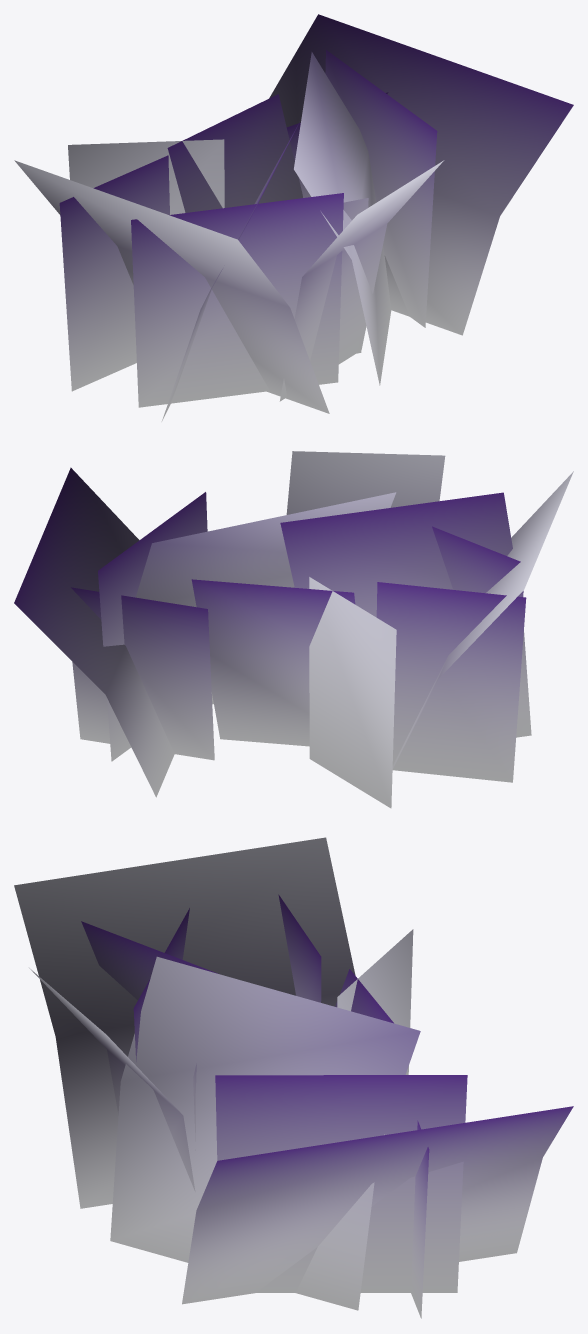
The picture shows the model from 3 angles, top to bottom: view 1: azimuth 30°, elevation 25°; view 2: azimuth 150°, elevation 25°; view 3: azimuth 270°, elevation 25°; orthographic projection. The views are drawn at different scales.
Parts seen in each view (by area): view 1: G:\FFXIV-MapTools\exports\e3ec\bg\ex2\02_est_e3\evt\e3ec\bgp; view 2: G:\FFXIV-MapTools\exports\e3ec\bg\ex2\02_est_e3\evt\e3ec\bgp; view 3: G:\FFXIV-MapTools\exports\e3ec\bg\ex2\02_est_e3\evt\e3ec\bgp.
Boxes of the visible parts, x1=… form: G:\FFXIV-MapTools\exports\e3ec\bg\ex2\02_est_e3\evt\e3ec\bgp: x1=14, y1=14, x2=573, y2=421; G:\FFXIV-MapTools\exports\e3ec\bg\ex2\02_est_e3\evt\e3ec\bgp: x1=14, y1=451, x2=573, y2=808; G:\FFXIV-MapTools\exports\e3ec\bg\ex2\02_est_e3\evt\e3ec\bgp: x1=14, y1=837, x2=573, y2=1318.
Size of the model in its own units: 1.33 by 0.5606 by 1.11.
